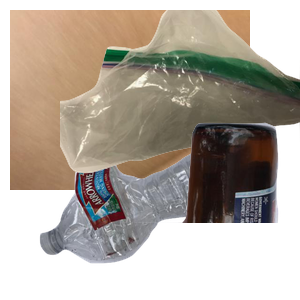cardboard: (10, 10, 250, 190)
glass: (87, 120, 300, 300)
plastic: (37, 144, 265, 300)
trash: (60, 10, 300, 176)
